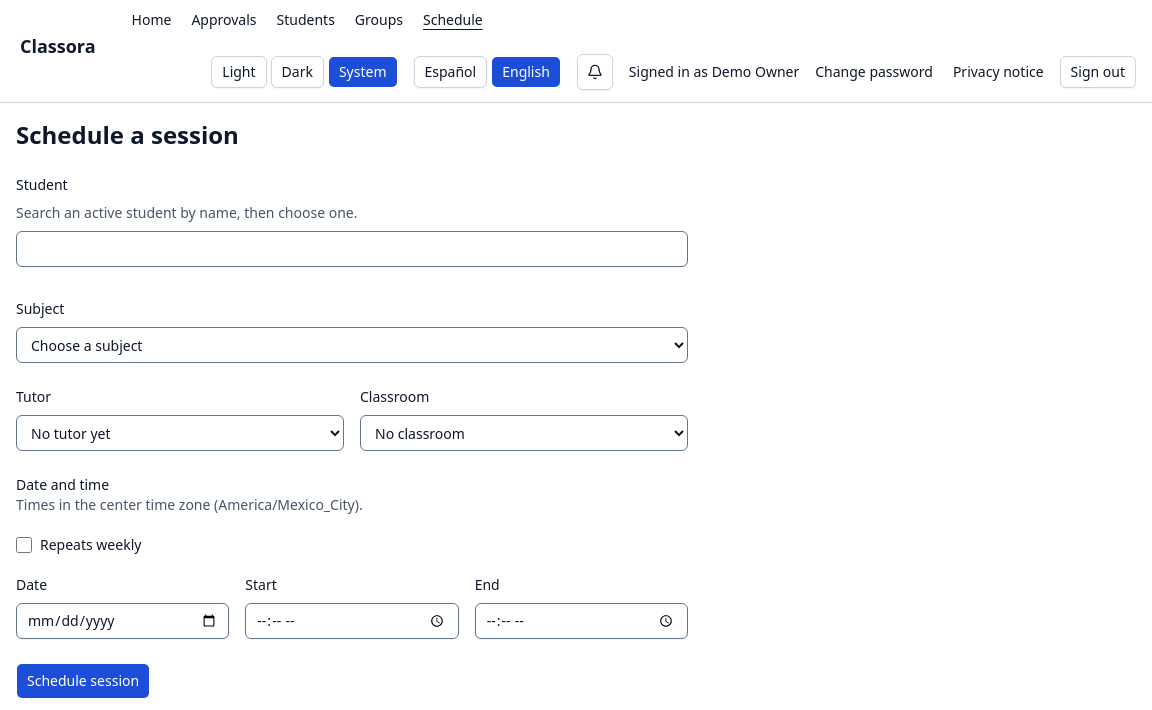
Test: the page (F1, F3) › shows the client errors without a request
Click the button "Schedule session".
click(83, 681)  # box x1=16 y1=663 x2=150 y2=699
(page scrolled)
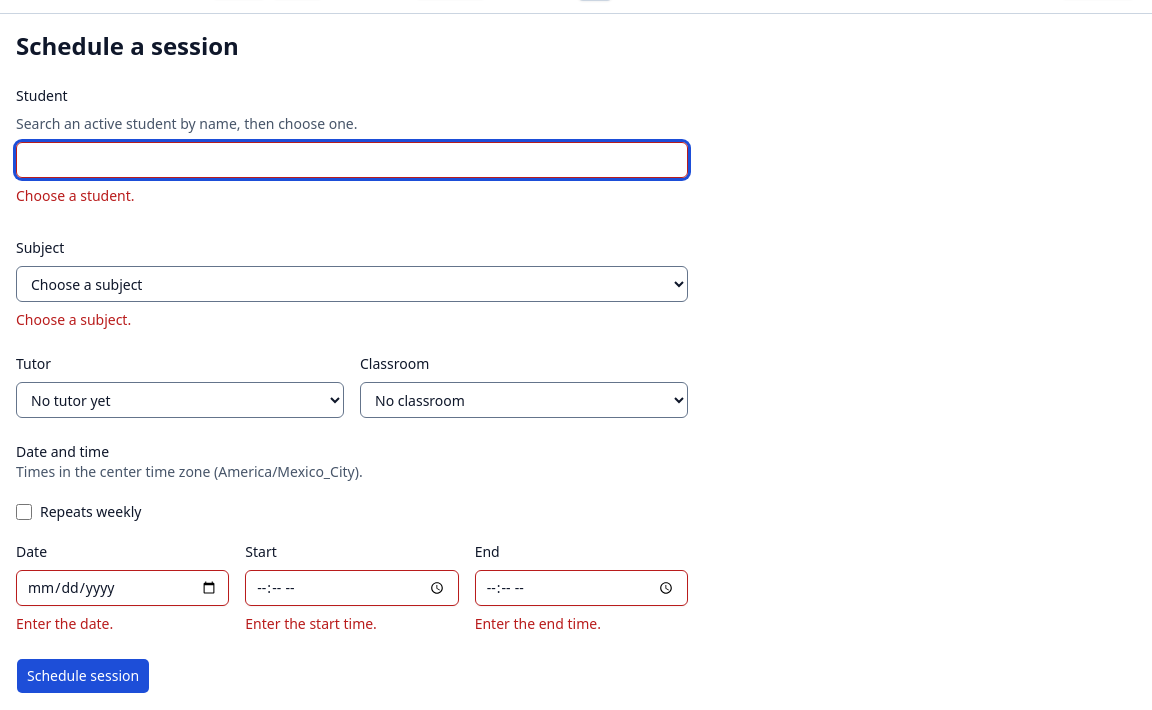
Result: the element that starts with "Schedule a session" shows "Choose a student." at x1=16 y1=186 x2=135 y2=205
